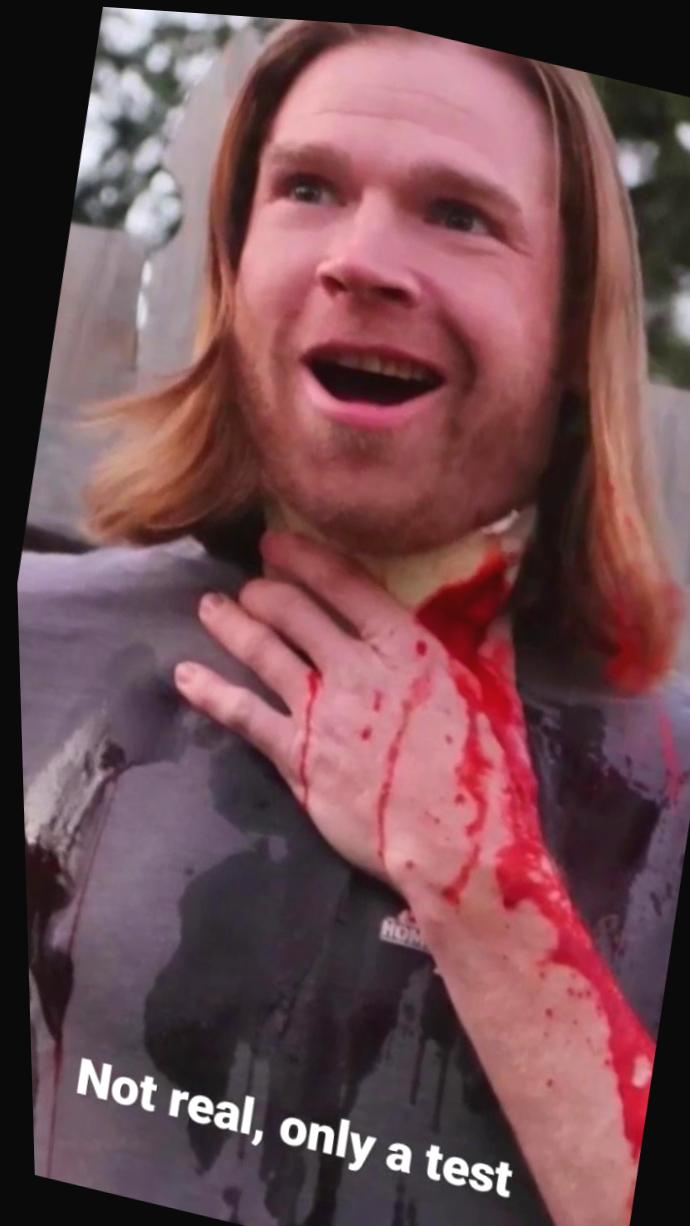Fire: (412, 547, 650, 1160), (522, 696, 656, 957), (357, 663, 427, 865), (283, 663, 318, 815), (335, 846, 372, 870), (410, 634, 424, 660)
